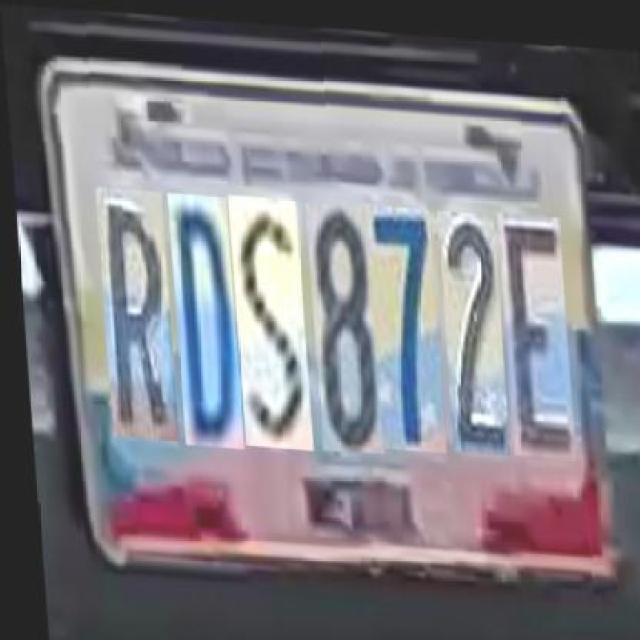2: (434, 203, 504, 448)
7: (362, 199, 440, 446)
8: (302, 197, 378, 448)
d: (164, 188, 238, 446)
e: (494, 204, 571, 450)
r: (92, 184, 172, 438)
s: (225, 190, 308, 445)
